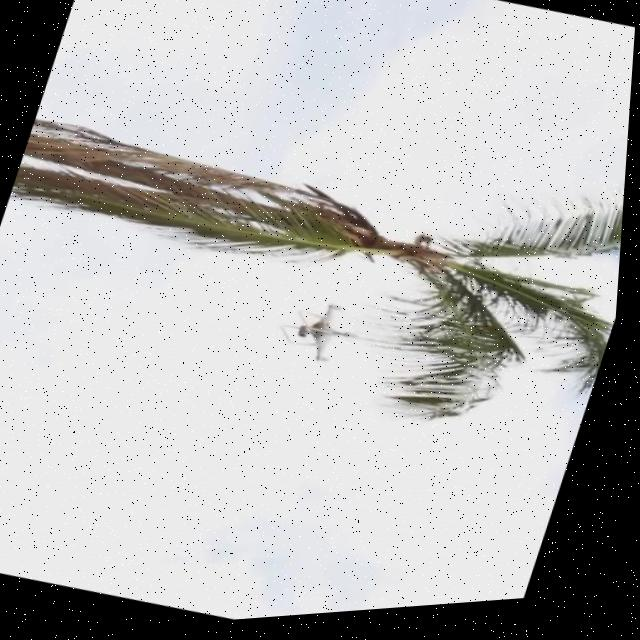drones: (242, 275, 404, 401)
